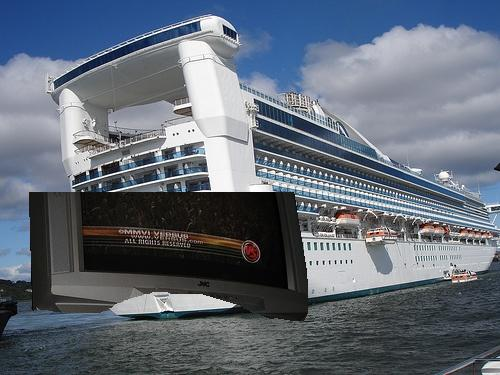tampered: (30, 193, 308, 321)
